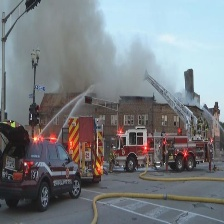smoke: (1, 1, 186, 101)
